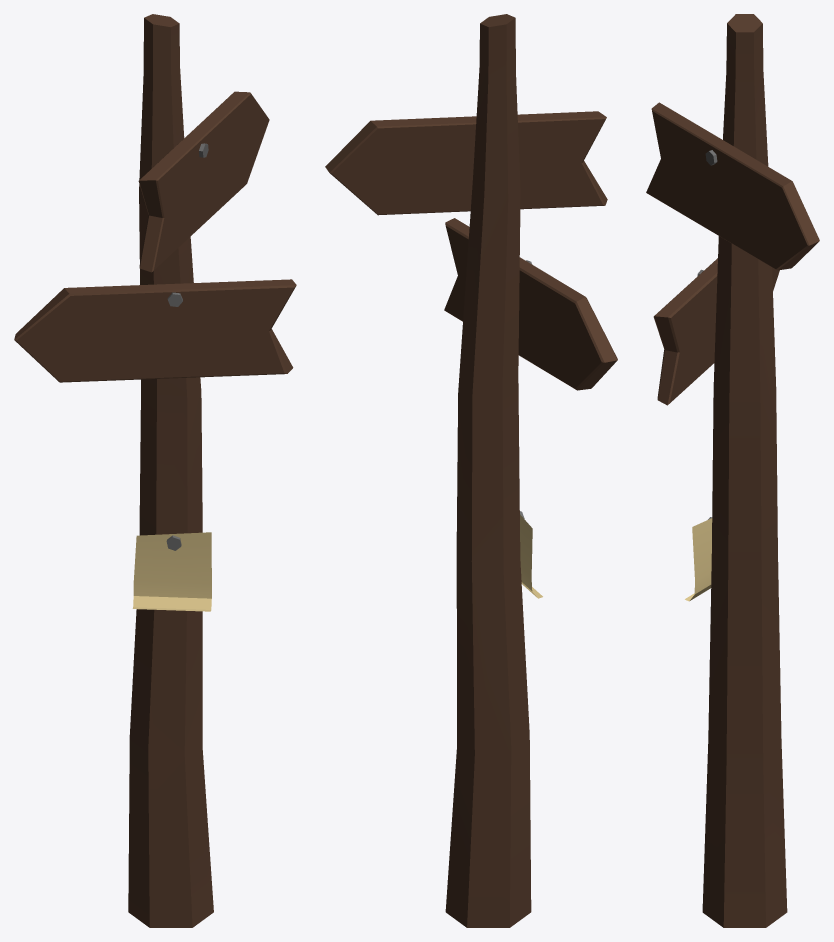
The model's file is Wegweiser.fbx.
The picture shows the model from 3 angles, left to right: view 1: azimuth 30°, elevation 25°; view 2: azimuth 150°, elevation 25°; view 3: azimuth 270°, elevation 25°; orthographic projection.
Parts seen in each view (by area): view 1: Pfahl; view 2: Pfahl; view 3: Pfahl.
Part boxes in pixels (<box>): Pfahl: <box>14,14,296,927</box>; Pfahl: <box>325,14,617,927</box>; Pfahl: <box>646,14,819,927</box>.
Size of the model in its own units: 224 by 700 by 124.
